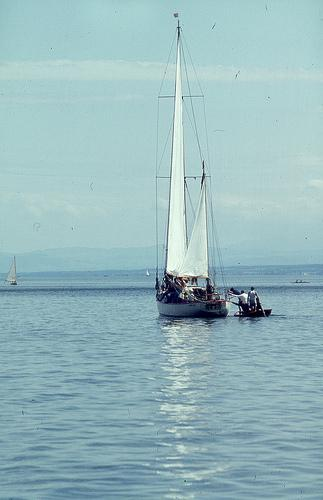Ship: (156, 19, 229, 318), (6, 256, 19, 286)
